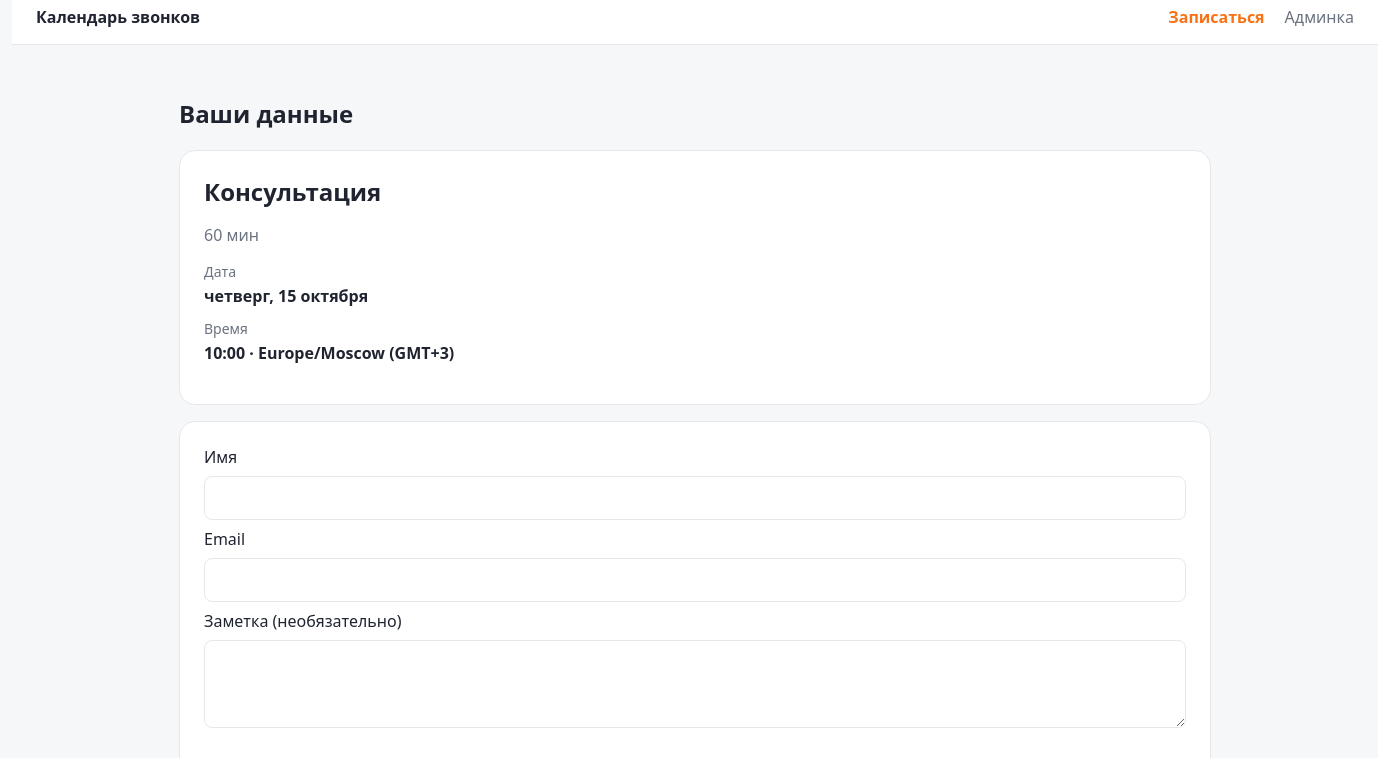
Test: booking form › shows a server validation error next to the field on 400
Type "Анна Гость" into the field labelled "Имя" at (695, 498), box [204,476,1186,520]
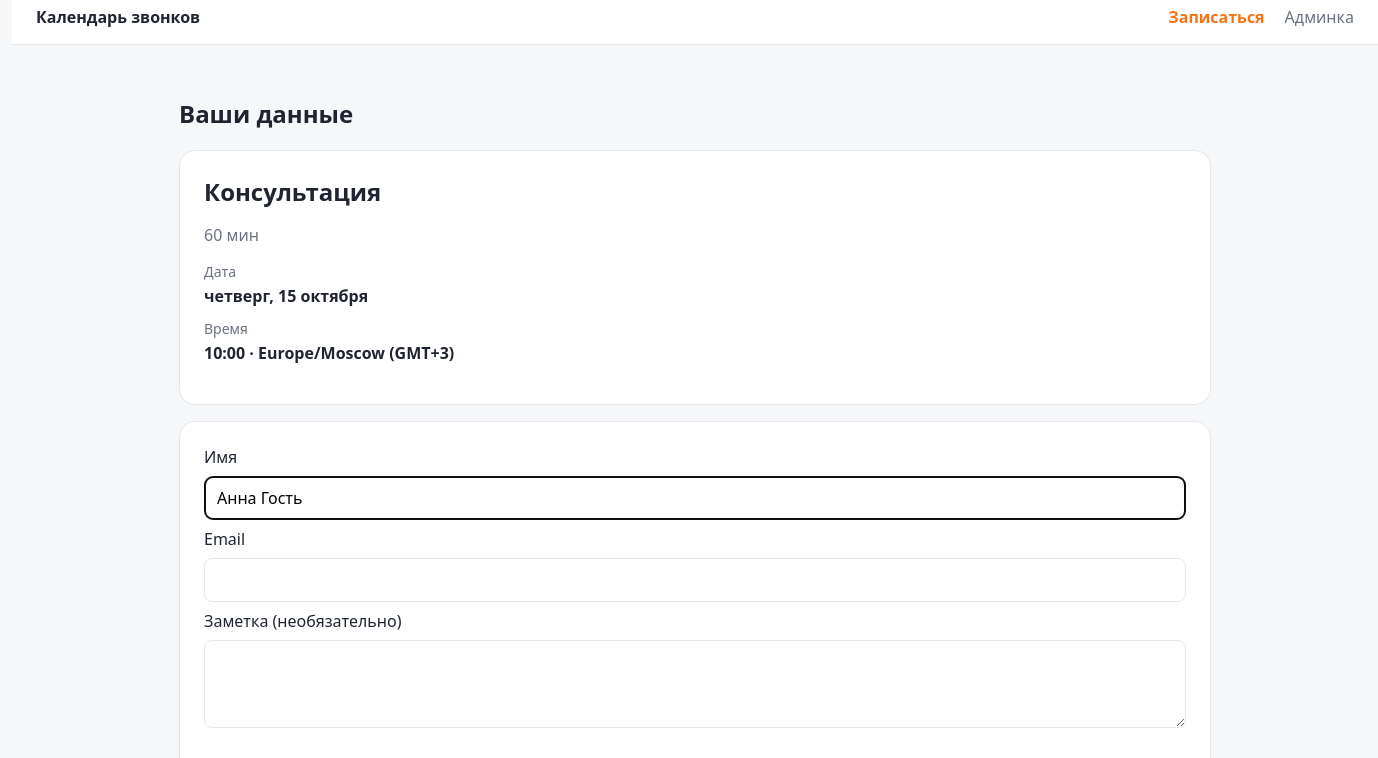
Type "not-an-email" into the field labelled "Email" at (695, 580), box [204,558,1186,602]
(page scrolled)
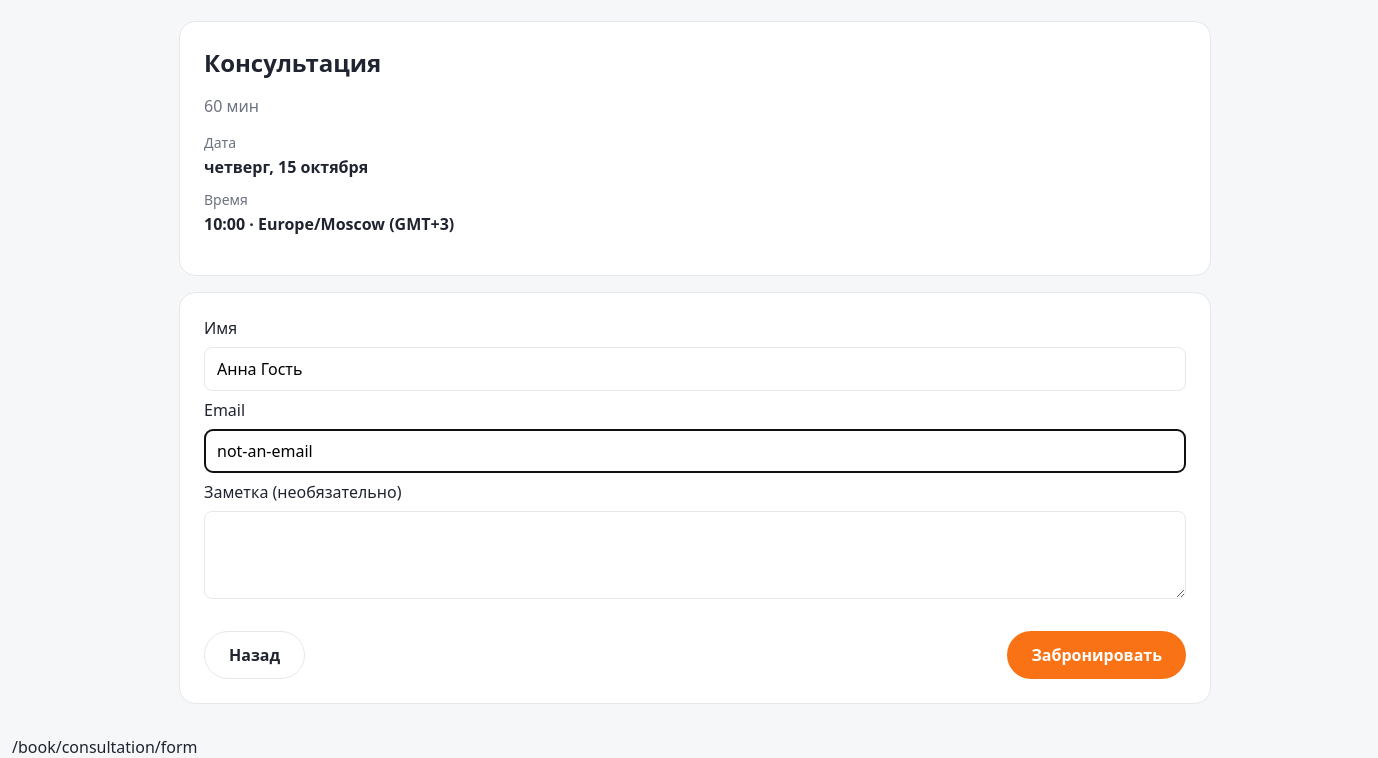
Click the button "Забронировать" at (1097, 655), box [1007,631,1186,679]
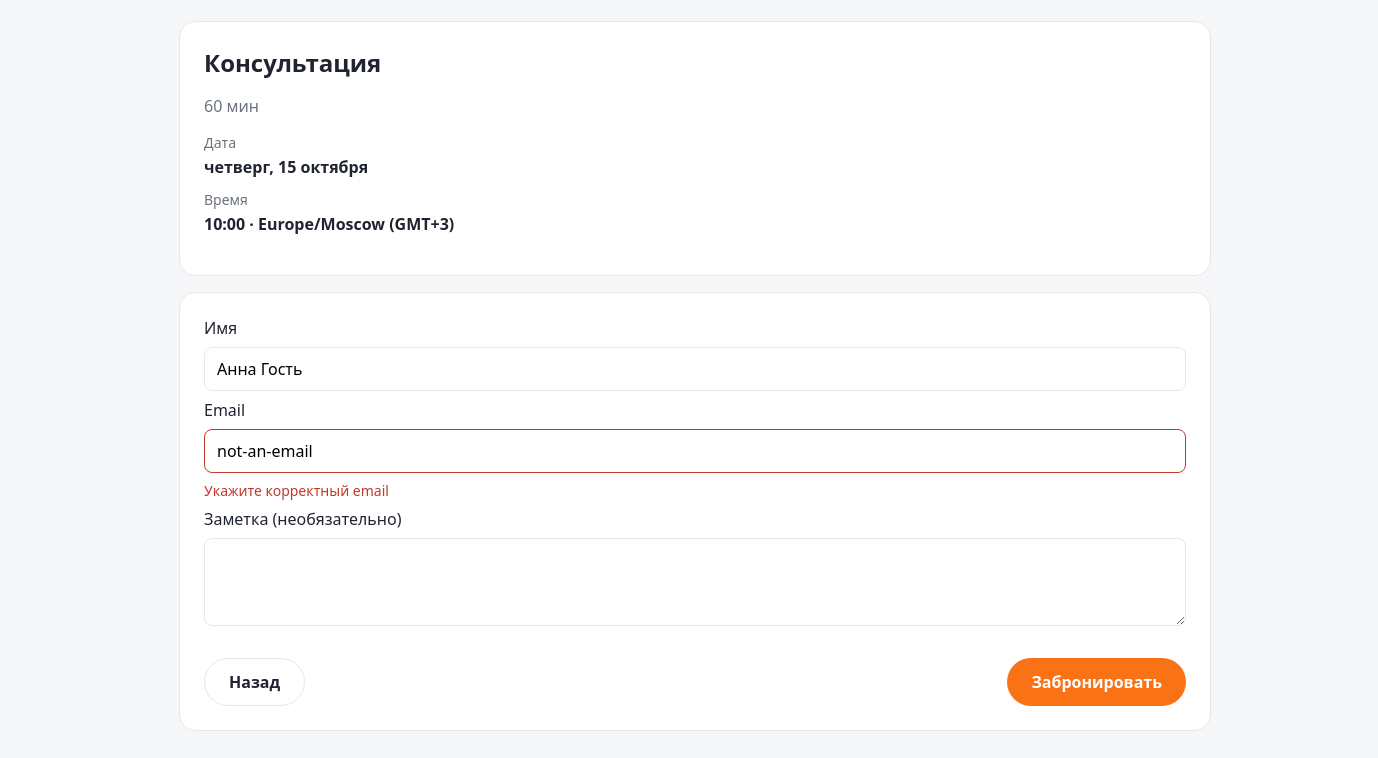
Expected: the text "Укажите корректный email" is shown, [204,481,389,500]
